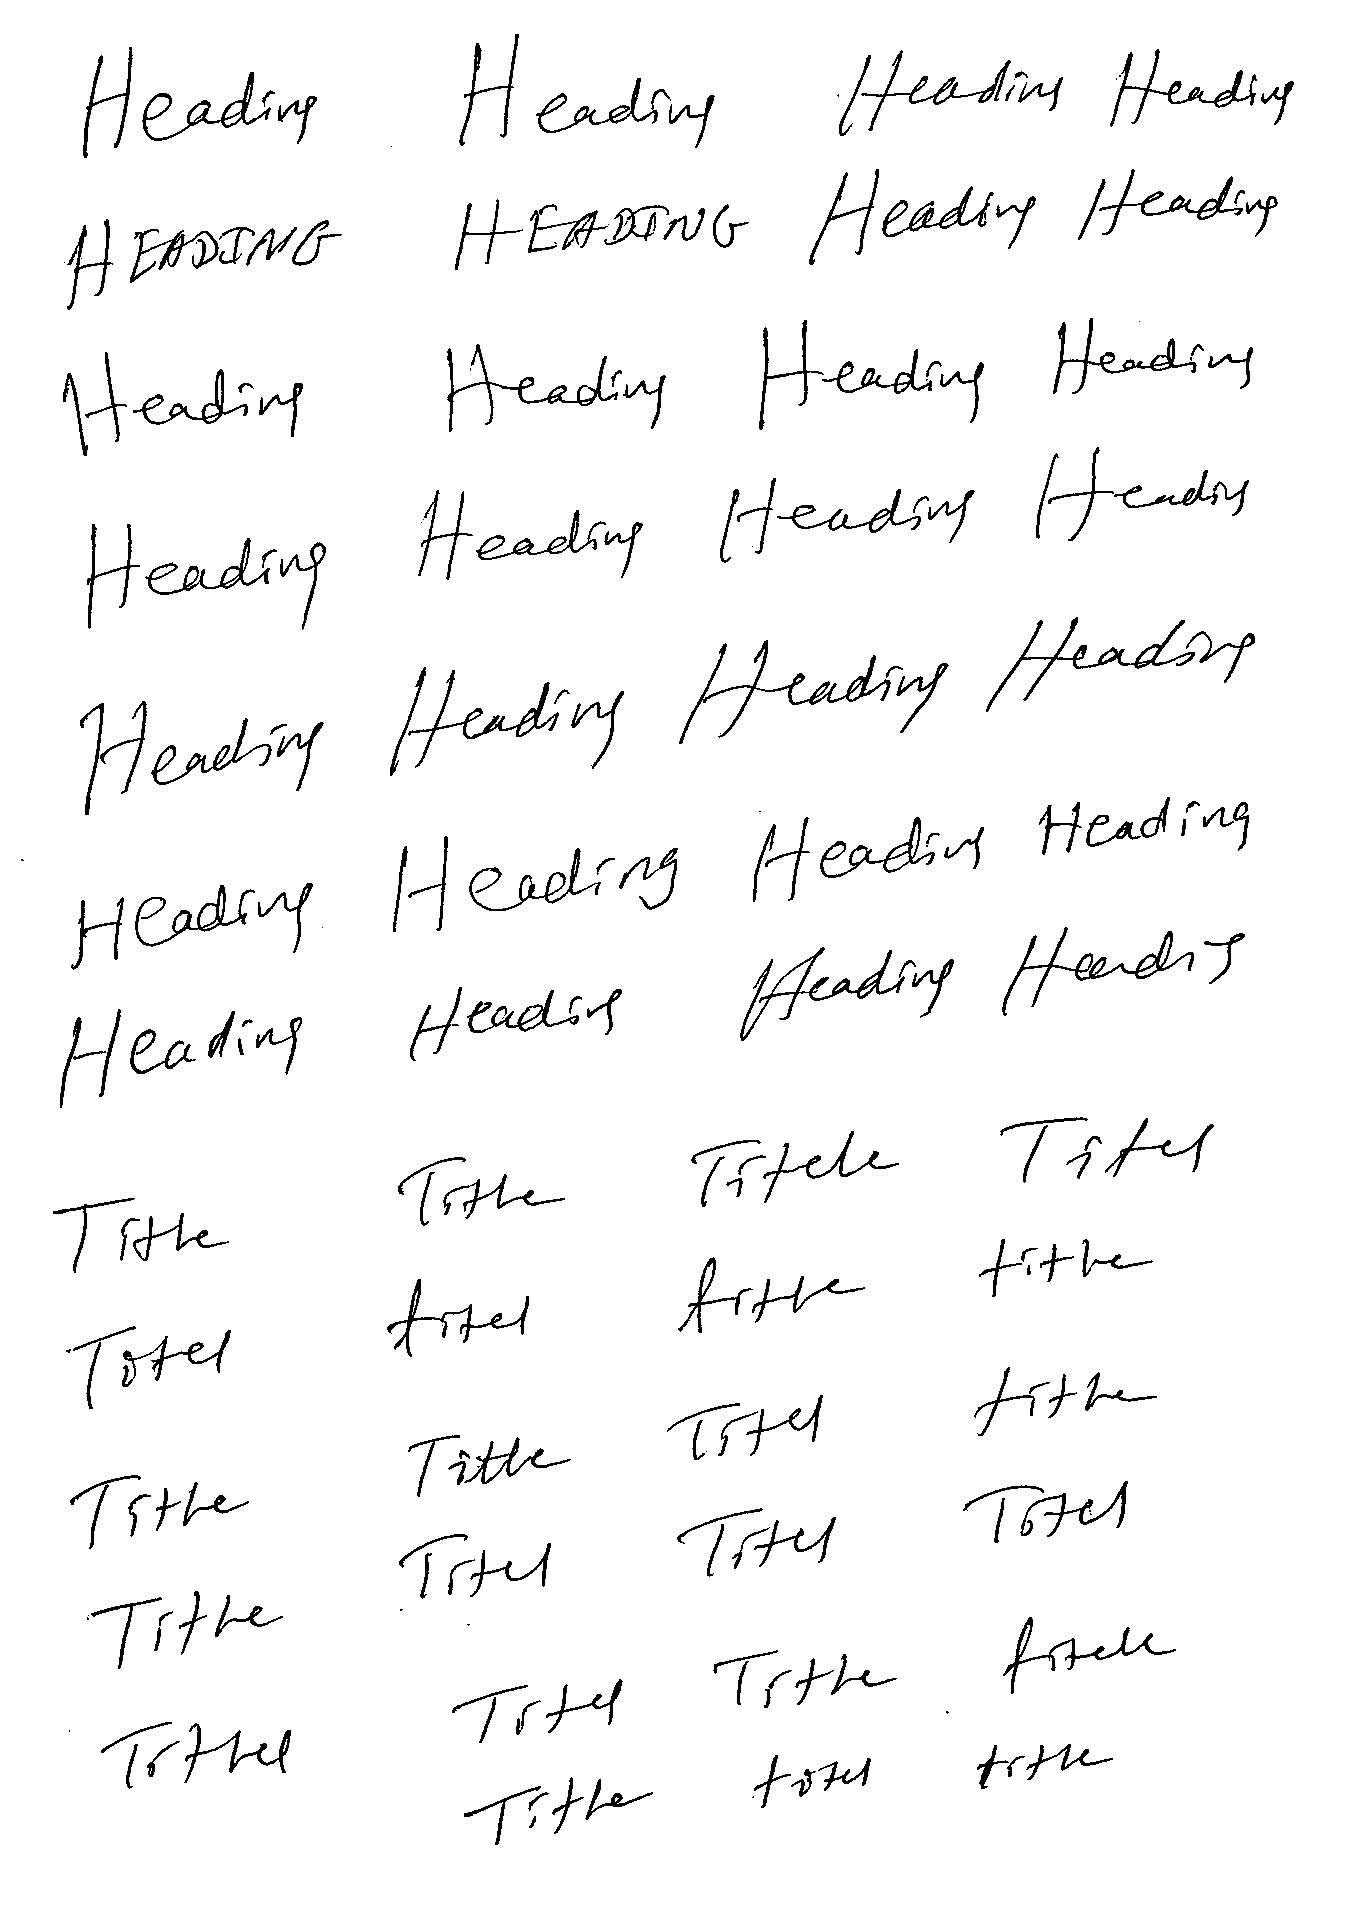Heading: (674, 634, 954, 750), (455, 33, 717, 146), (390, 834, 680, 936), (77, 699, 325, 816), (64, 213, 343, 313), (83, 519, 330, 630), (985, 614, 1258, 713), (80, 44, 316, 158), (389, 667, 625, 779), (61, 350, 305, 458), (55, 1005, 303, 1109), (755, 321, 985, 430), (716, 473, 977, 565), (452, 197, 747, 276), (809, 166, 1036, 268), (67, 878, 315, 971), (738, 940, 956, 1044), (999, 927, 1245, 1019), (748, 810, 985, 903), (417, 489, 643, 586), (1030, 447, 1251, 543), (837, 49, 1066, 138), (442, 343, 667, 433), (407, 980, 622, 1065), (1053, 315, 1261, 393), (998, 1110, 1215, 1184), (1106, 46, 1298, 129), (687, 1133, 894, 1209), (62, 1323, 237, 1414), (676, 1254, 865, 1335), (47, 1192, 232, 1275), (84, 1592, 282, 1669), (1075, 169, 1280, 241), (1002, 1612, 1175, 1696), (461, 1776, 650, 1853), (98, 1720, 296, 1792), (68, 1473, 247, 1552), (971, 1366, 1158, 1440), (392, 1153, 572, 1227), (381, 1276, 534, 1360), (444, 1674, 624, 1745), (1036, 798, 1251, 858), (974, 1232, 1155, 1301), (962, 1476, 1134, 1545), (393, 1530, 553, 1603), (662, 1391, 825, 1462), (679, 1507, 835, 1579), (402, 1430, 571, 1496), (711, 1652, 899, 1711), (976, 1739, 1119, 1791), (750, 1752, 875, 1810)
